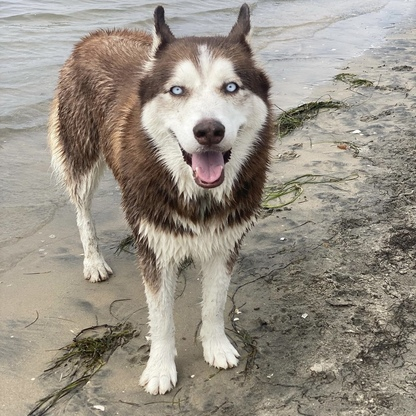husky: (43, 2, 280, 399)
